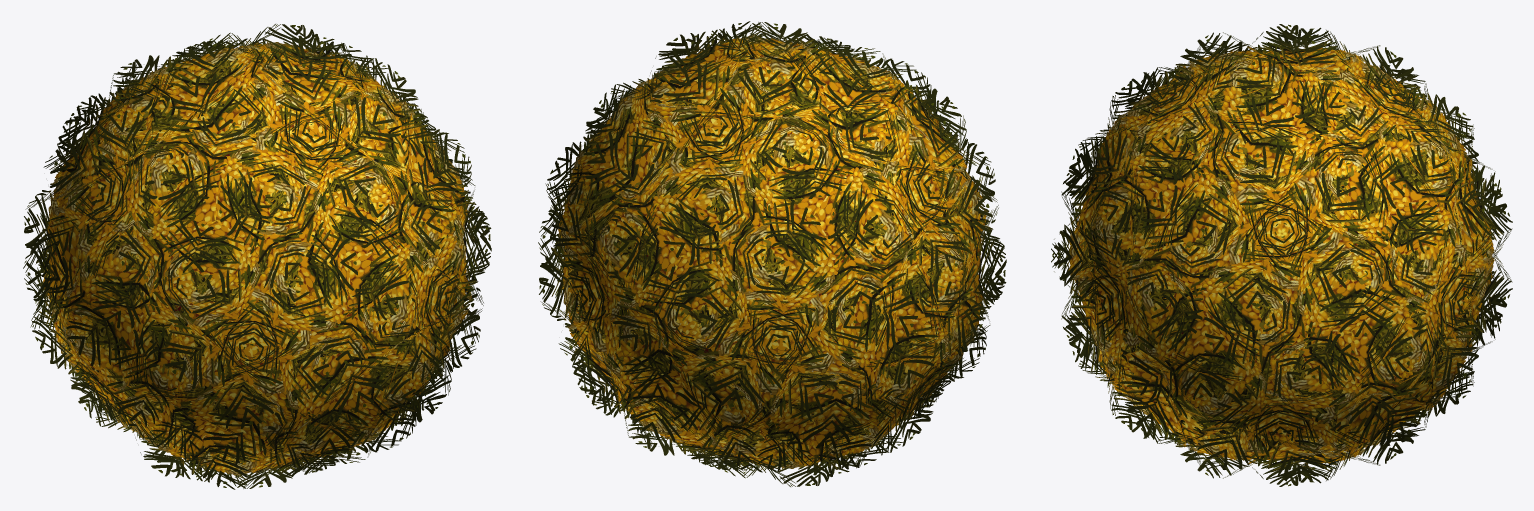
The model's file is 29GreatPentagonalHexecontahedron.gltf.
3 renders of one model, left to right at view 1: azimuth 30°, elevation 25°; view 2: azimuth 150°, elevation 25°; view 3: azimuth 270°, elevation 25°, orthographic.
Parts seen in each view (by area): view 1: 25GreatPentagonalHexecontahedron; view 2: 25GreatPentagonalHexecontahedron; view 3: 25GreatPentagonalHexecontahedron.
Part boxes in pixels (bbox=[...]): 25GreatPentagonalHexecontahedron: bbox=[23, 24, 491, 489]; 25GreatPentagonalHexecontahedron: bbox=[538, 21, 1006, 486]; 25GreatPentagonalHexecontahedron: bbox=[1051, 24, 1512, 486].
Size of the model in its own units: 1.42 by 1.42 by 1.42.
1 material, 1 textured.
